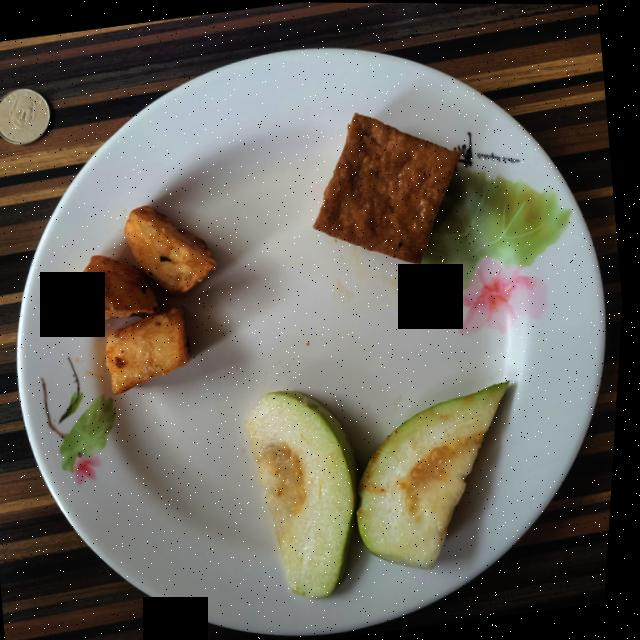coin: (0, 88, 51, 145)
egg tofu: (315, 113, 462, 263)
fried potato: (74, 205, 219, 394)
guava -sliced-: (250, 381, 512, 598)
